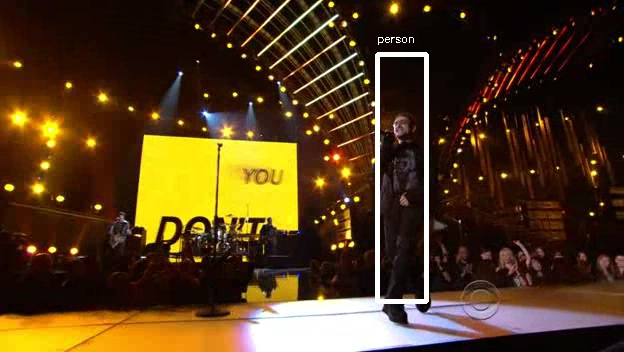person: (374, 113, 439, 220), (371, 113, 436, 220), (377, 113, 442, 220), (374, 110, 439, 217), (374, 116, 439, 223)
target_negative: (140, 85, 495, 308), (204, 95, 428, 250), (106, 15, 275, 181), (239, 11, 470, 86), (216, 60, 484, 124), (146, 334, 366, 338)
